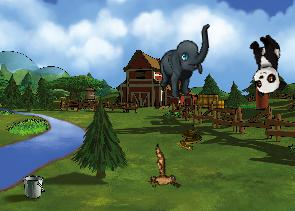eagle: (133, 143, 191, 201)
elephant: (154, 24, 217, 99)
panda: (245, 32, 287, 97)
